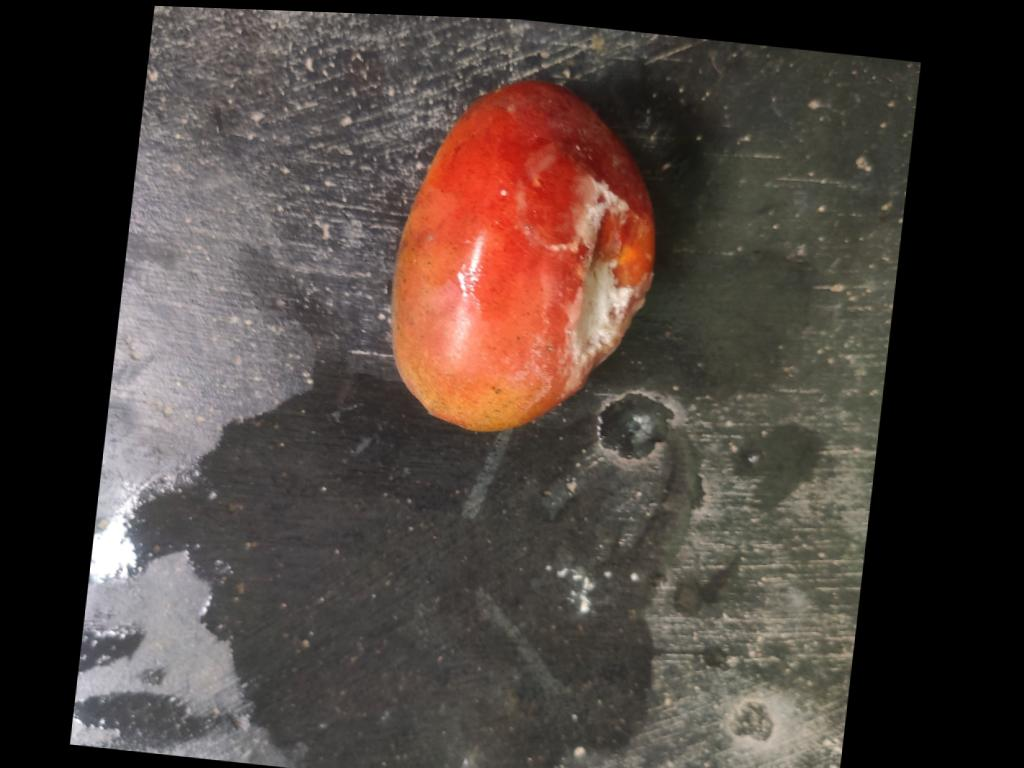rot_mold_decay: (563, 253, 634, 389), (544, 174, 630, 251)
tomato: (392, 80, 654, 430)
